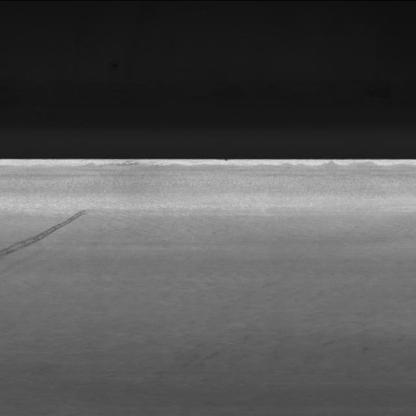water_spot: (0, 202, 104, 260)
